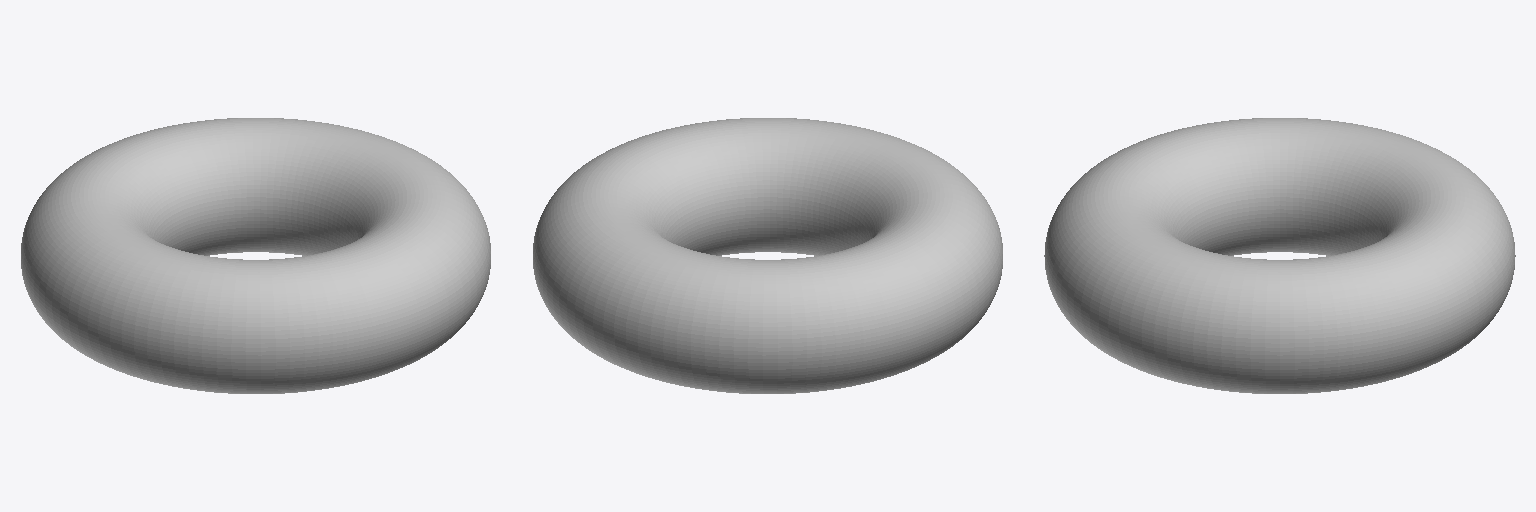
File: mouse_click_waypoint.obj
The picture shows the model from 3 angles: view 1: azimuth 30°, elevation 25°; view 2: azimuth 150°, elevation 25°; view 3: azimuth 270°, elevation 25°; orthographic projection.
Parts seen in each view (by area): view 1: Object.1; view 2: Object.1; view 3: Object.1.
Boxes of the visible parts, box(x1,y1,x2,y2) form: Object.1: box(21, 118, 490, 393); Object.1: box(533, 118, 1002, 393); Object.1: box(1044, 118, 1515, 393).
Size of the model in its own units: 1.4 by 0.4 by 1.4.